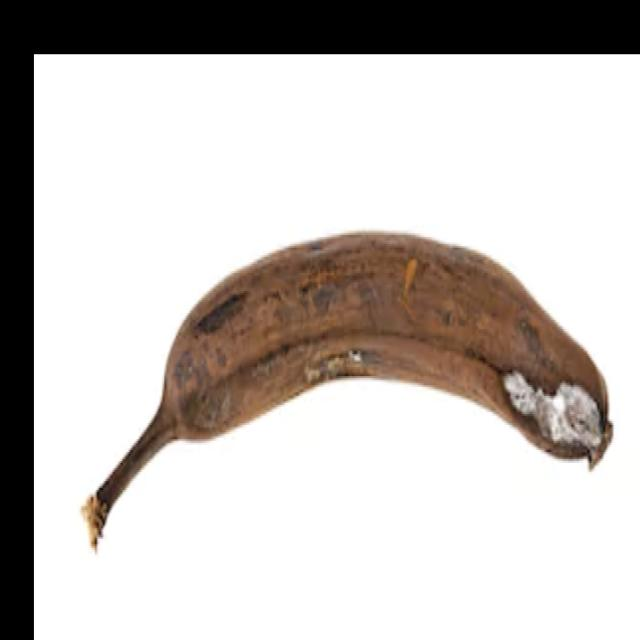Rotten: (52, 216, 628, 565)
